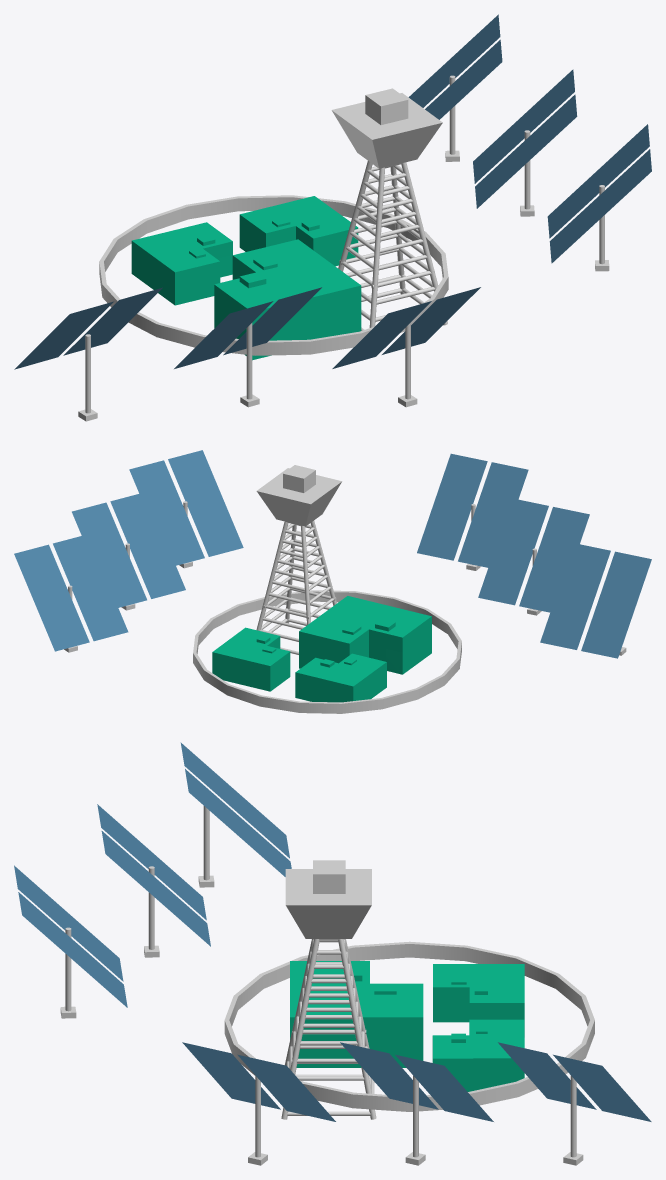
Rendered from SunPlant.fbx.
The picture shows the model from 3 angles, top to bottom: view 1: azimuth 30°, elevation 25°; view 2: azimuth 150°, elevation 25°; view 3: azimuth 270°, elevation 25°; orthographic projection. The views are drawn at different scales.
Parts seen in each view (by area): view 1: polySurface114; view 2: polySurface114; view 3: polySurface114.
Boxes of the visible parts, x1,y1,x2,y2 form: polySurface114: (14,14,651,421); polySurface114: (14,450,651,713); polySurface114: (14,742,651,1165).
Bounding box in the file's own units: 24.04 × 8.01 × 19.85.
